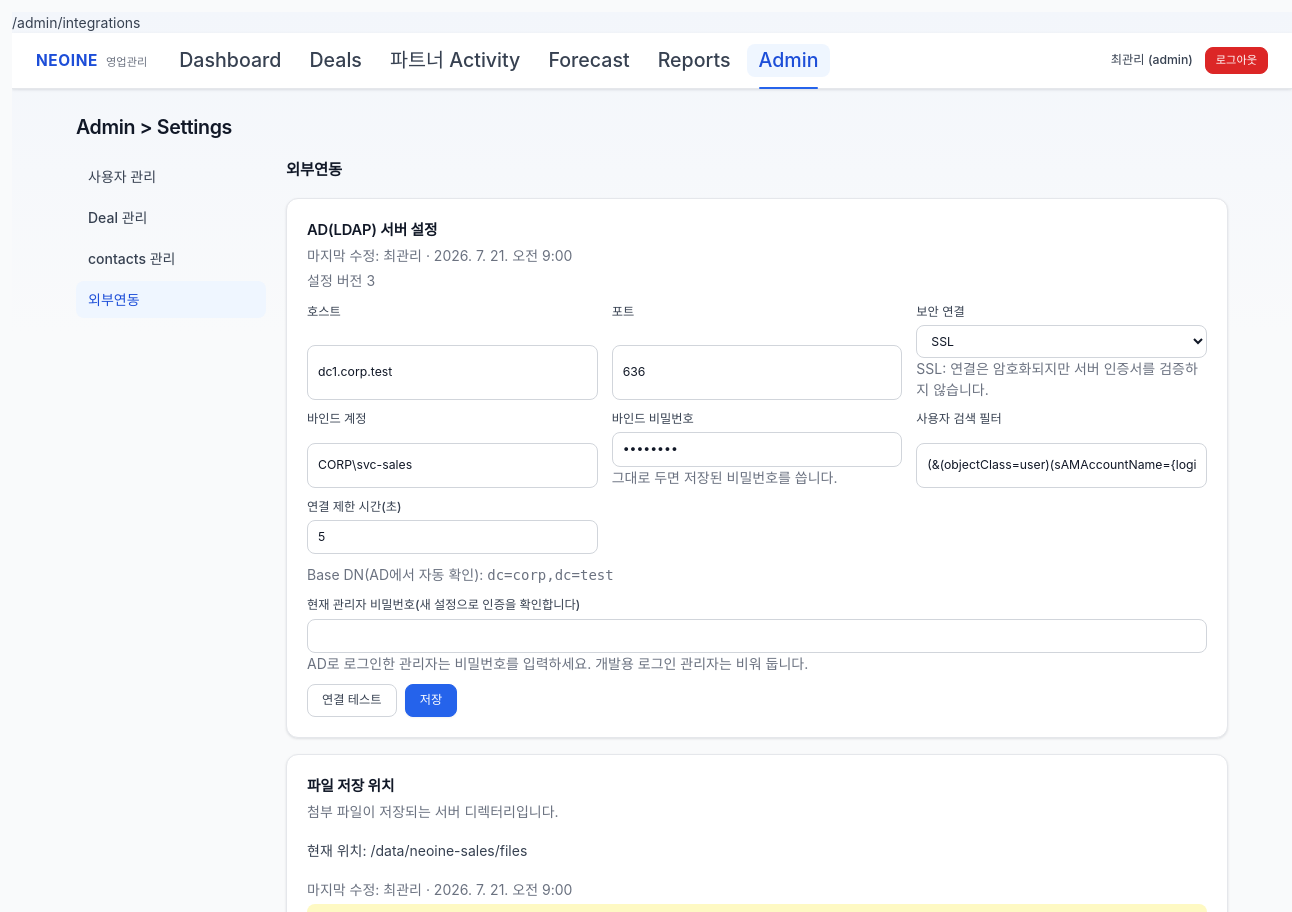
Test case: 외부연동 AD 설정의 관리자 비밀번호 확인 (AC-27) › sends the password when testing the connection, without saving
This screenshot has width=1292, height=912.
Expected: the field labelled "호스트" is shown, 307,345 -> 598,400
Type "pw-root" into the password field labelled "현재 관리자 비밀번호(새 설정으로 인증을 확인합니다)". click: point(757, 636)
box: 307,619 -> 1207,653
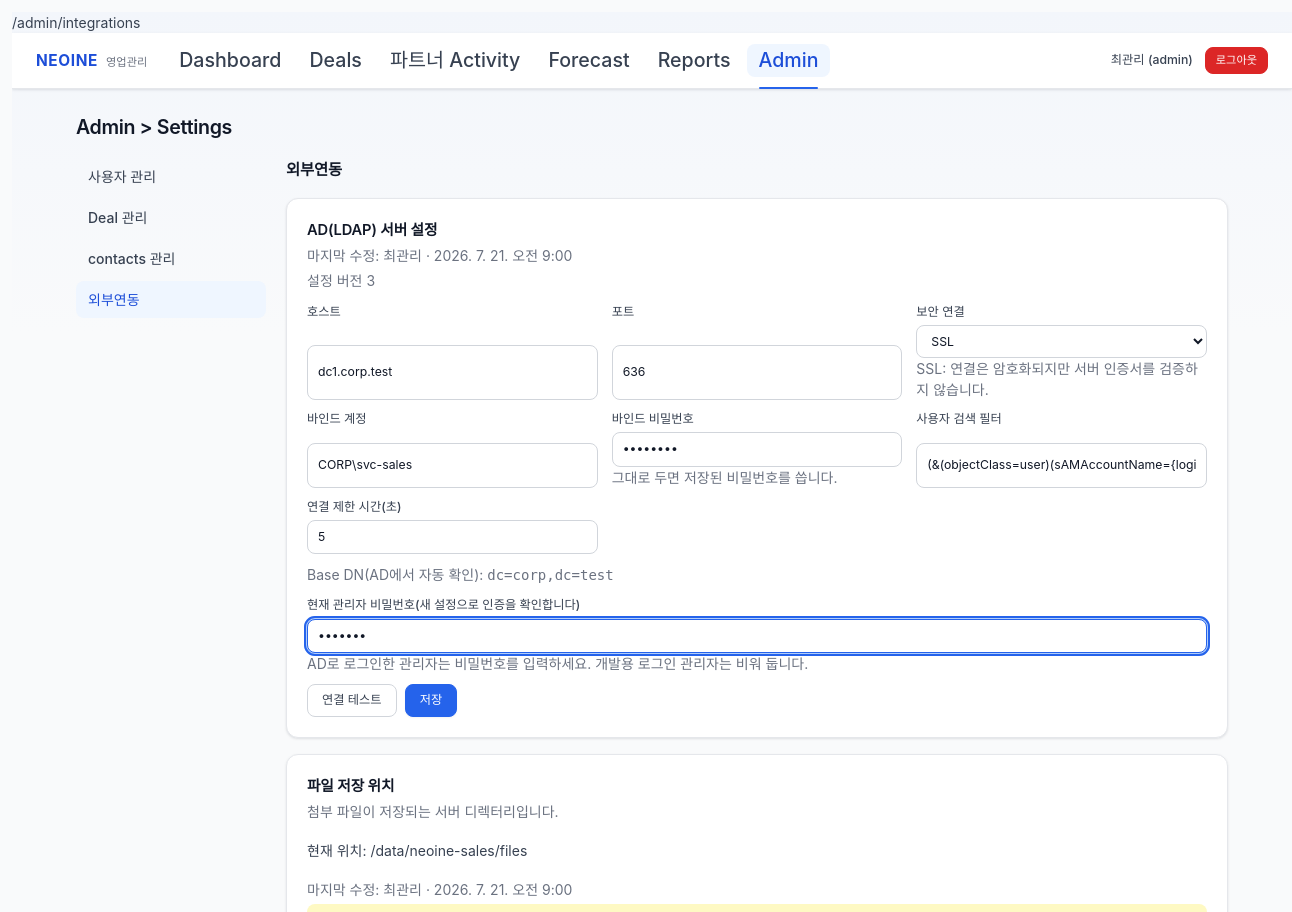
Click the button "연결 테스트". click: point(352, 700)
box: 307,684 -> 397,717
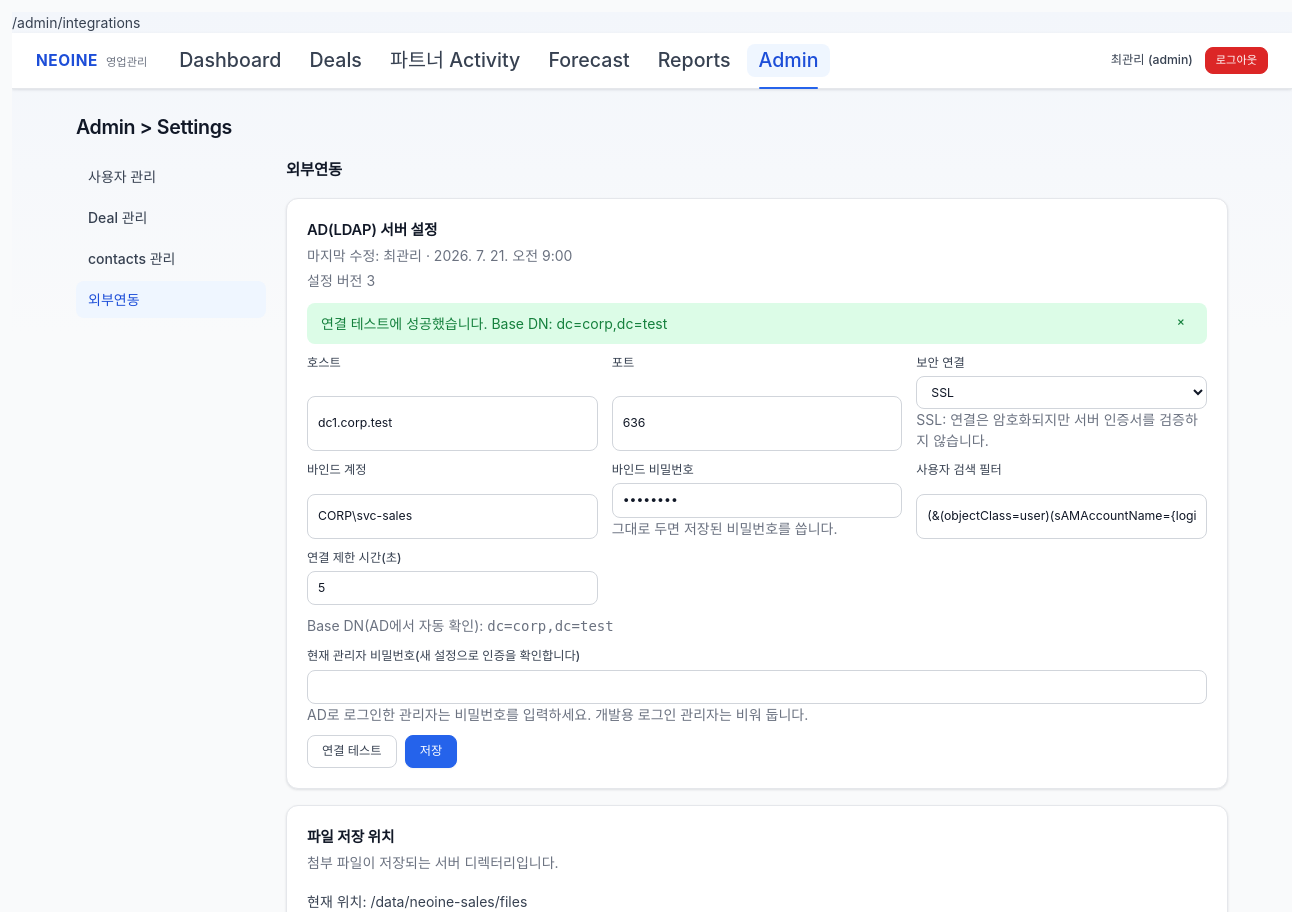
Now the text "연결 테스트에 성공했습니다." is shown, box 321,314 -> 488,332
